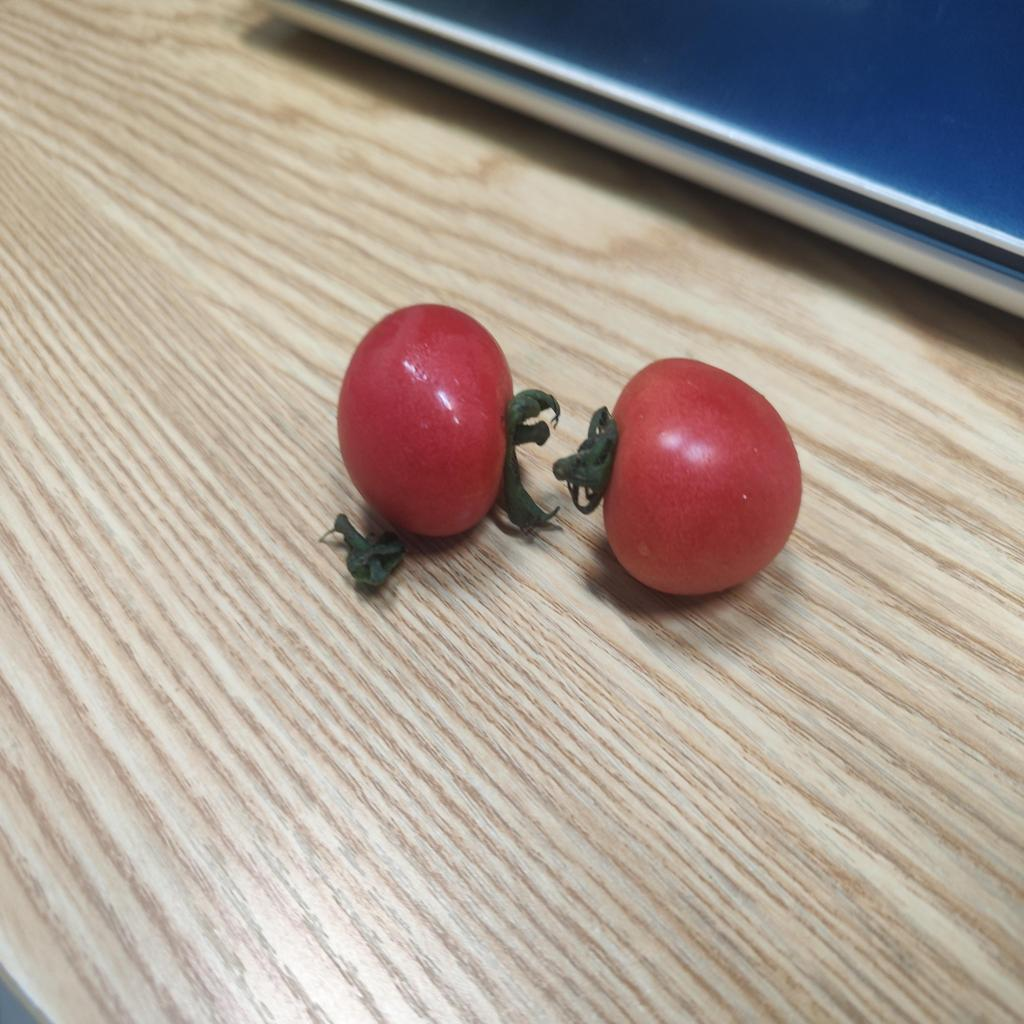tomato: (595, 359, 804, 608), (343, 309, 522, 545)
